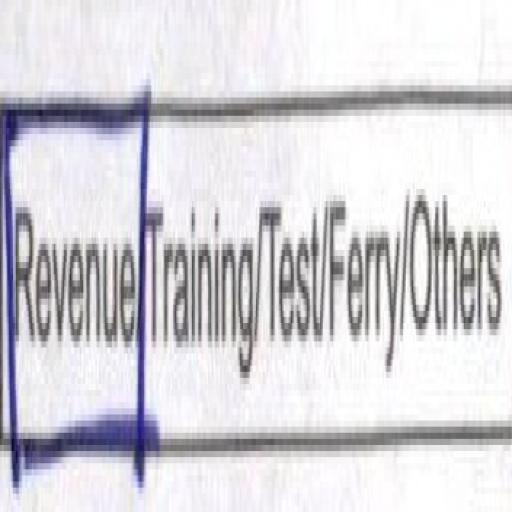check: (0, 49, 148, 506)
